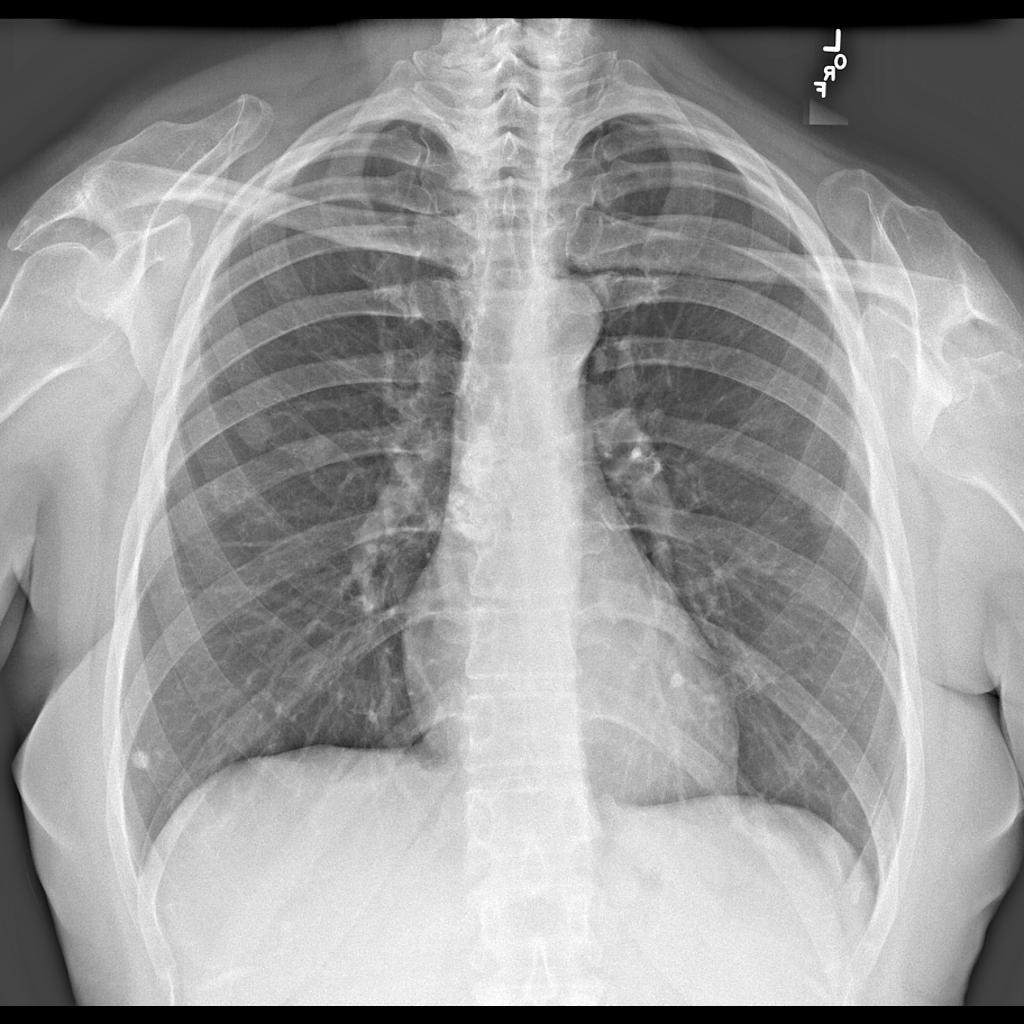Nodule: (231, 406, 276, 458)
